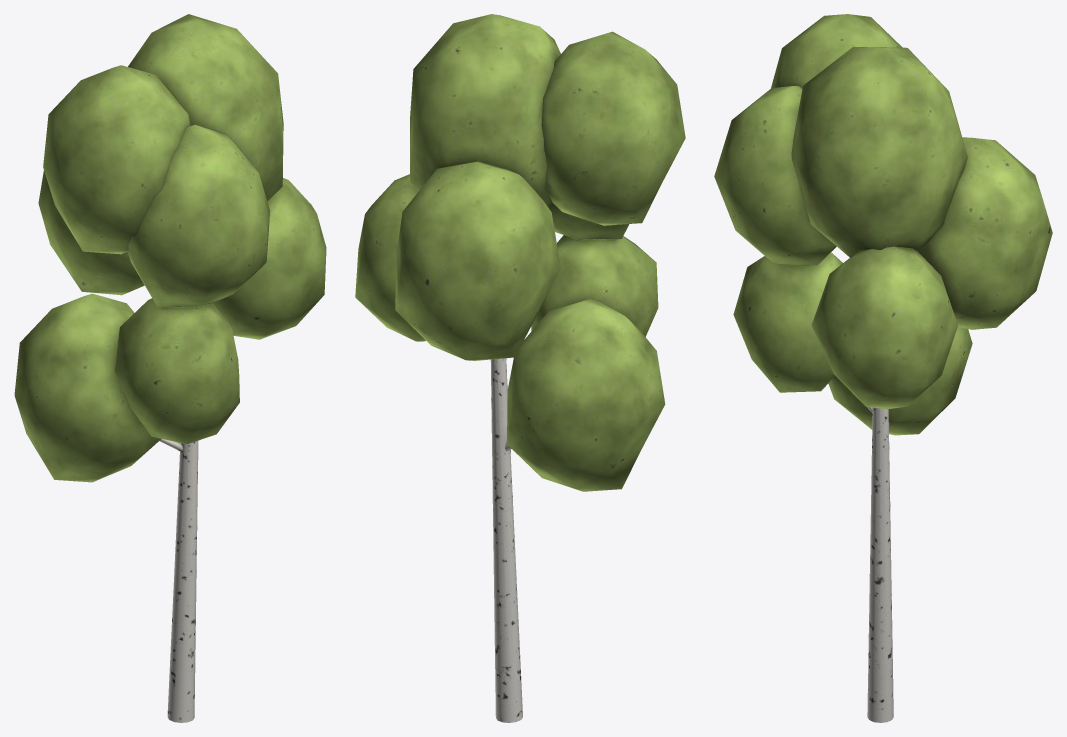
The model's file is birch.glb.
3 renders of one model, left to right at view 1: azimuth 30°, elevation 25°; view 2: azimuth 150°, elevation 25°; view 3: azimuth 270°, elevation 25°, orthographic. The views are drawn at different scales.
Parts seen in each view (by area): view 1: birch; view 2: birch; view 3: birch.
Boxes of the visible parts, <box> form: birch: <box>14,14,326,722</box>; birch: <box>355,14,685,722</box>; birch: <box>714,14,1052,722</box>.
Size of the model in its own units: 4.91 by 11.32 by 5.13.
Materials: 2 (2 with a texture image).
